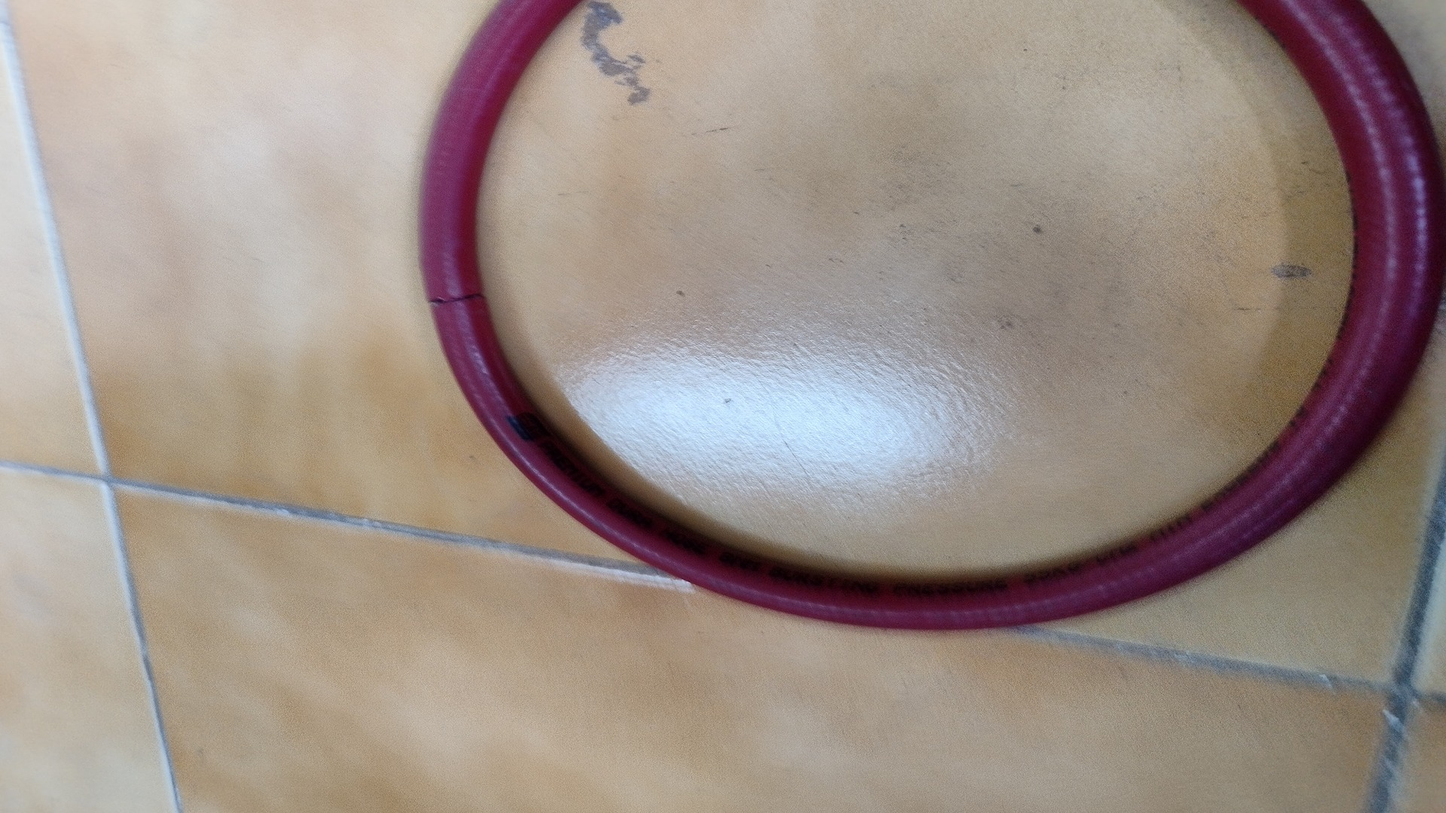Red ring: (426, 4, 1439, 632)
